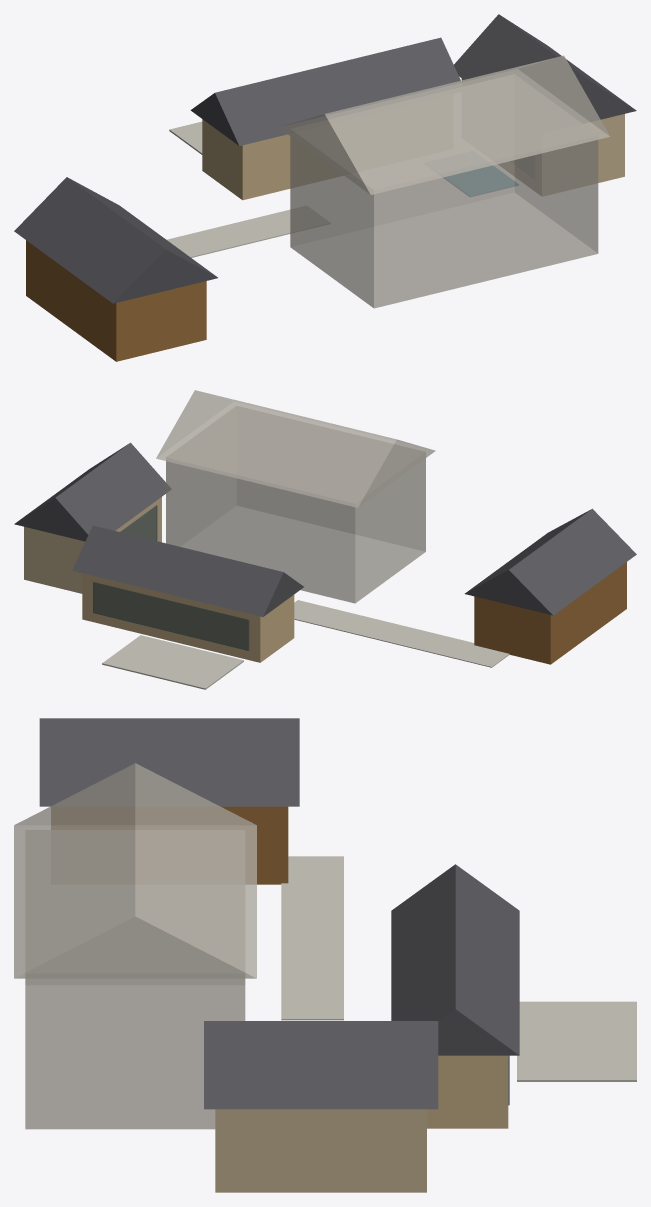
The model's file is concept_wellness.obj.
3 views of the same model, one above another, from view 1: azimuth 30°, elevation 25°; view 2: azimuth 150°, elevation 25°; view 3: azimuth 270°, elevation 25° (orthographic). The views are drawn at different scales.
Visible parts, largest first — view 1: Cladire_existenta_CONTEXT, Acoperis_cladire_existenta_CONTEXT, Acoperis_zona_distractie, Acoperis_garaj, Garaj, Acoperis_SPA, Zona_de_distractie, Zona_SPA, Alee_pavata, Piscina_exterioara, Terasa; view 2: Cladire_existenta_CONTEXT, Acoperis_cladire_existenta_CONTEXT, Acoperis_zona_distractie, Zona_de_distractie, Acoperis_garaj, Garaj, Acoperis_SPA, Vitraj_zona_distractie, Alee_pavata, Terasa, Zona_SPA, Vitraj_SPA; view 3: Cladire_existenta_CONTEXT, Acoperis_cladire_existenta_CONTEXT, Acoperis_garaj, Acoperis_SPA, Acoperis_zona_distractie, Zona_SPA, Alee_pavata, Terasa, Garaj, Zona_de_distractie.
Boxes of the visible parts, left/top/right/bottom form: Cladire_existenta_CONTEXT: left=290, top=74, right=598, bottom=308; Acoperis_cladire_existenta_CONTEXT: left=278, top=55, right=609, bottom=194; Acoperis_zona_distractie: left=190, top=37, right=462, bottom=145; Acoperis_garaj: left=14, top=177, right=217, bottom=303; Garaj: left=26, top=240, right=206, bottom=361; Acoperis_SPA: left=454, top=14, right=636, bottom=123; Zona_de_distractie: left=202, top=119, right=342, bottom=200; Zona_SPA: left=461, top=78, right=624, bottom=196; Alee_pavata: left=167, top=206, right=330, bottom=257; Piscina_exterioara: left=444, top=166, right=518, bottom=196; Terasa: left=169, top=121, right=202, bottom=154; Cladire_existenta_CONTEXT: left=166, top=406, right=425, bottom=603; Acoperis_cladire_existenta_CONTEXT: left=156, top=390, right=435, bottom=507; Acoperis_zona_distractie: left=72, top=525, right=303, bottom=616; Zona_de_distractie: left=82, top=573, right=294, bottom=662; Acoperis_garaj: left=464, top=508, right=636, bottom=615; Garaj: left=474, top=562, right=626, bottom=664; Acoperis_SPA: left=14, top=442, right=170, bottom=541; Vitraj_zona_distractie: left=93, top=582, right=249, bottom=650; Alee_pavata: left=294, top=600, right=509, bottom=667; Terasa: left=102, top=635, right=243, bottom=689; Zona_SPA: left=24, top=497, right=161, bottom=593; Vitraj_SPA: left=120, top=505, right=157, bottom=540; Cladire_existenta_CONTEXT: left=25, top=830, right=245, bottom=1129; Acoperis_cladire_existenta_CONTEXT: left=14, top=763, right=256, bottom=978; Acoperis_garaj: left=39, top=718, right=299, bottom=806; Acoperis_SPA: left=204, top=1021, right=438, bottom=1109; Acoperis_zona_distractie: left=391, top=864, right=519, bottom=1055; Zona_SPA: left=215, top=1109, right=426, bottom=1192; Alee_pavata: left=281, top=856, right=343, bottom=1020; Terasa: left=517, top=1001, right=636, bottom=1081; Garaj: left=51, top=806, right=288, bottom=884; Zona_de_distractie: left=427, top=1055, right=508, bottom=1128.
Bounding box in the file's own units: 31.1 × 8.4 × 21.8.
